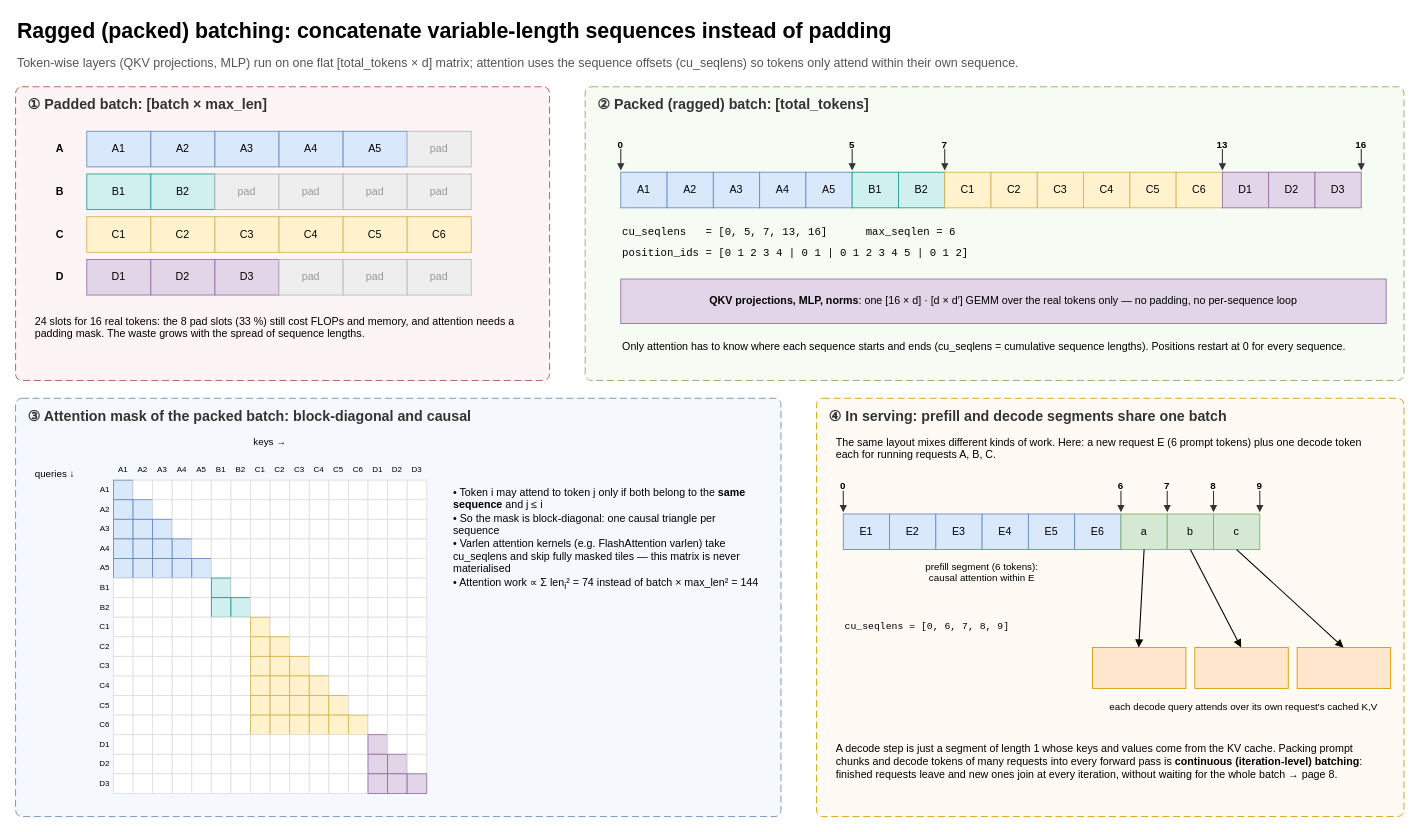
The diagram is 1420 pixels wide and 832 high, and some of its shapes have lost their labels. The centre of each missing label's shape, as x and y in pixels:
A's KV cache (paged blocks): [1139,667]
B's KV cache (paged blocks): [1241,667]
C's KV cache (paged blocks): [1343,667]
